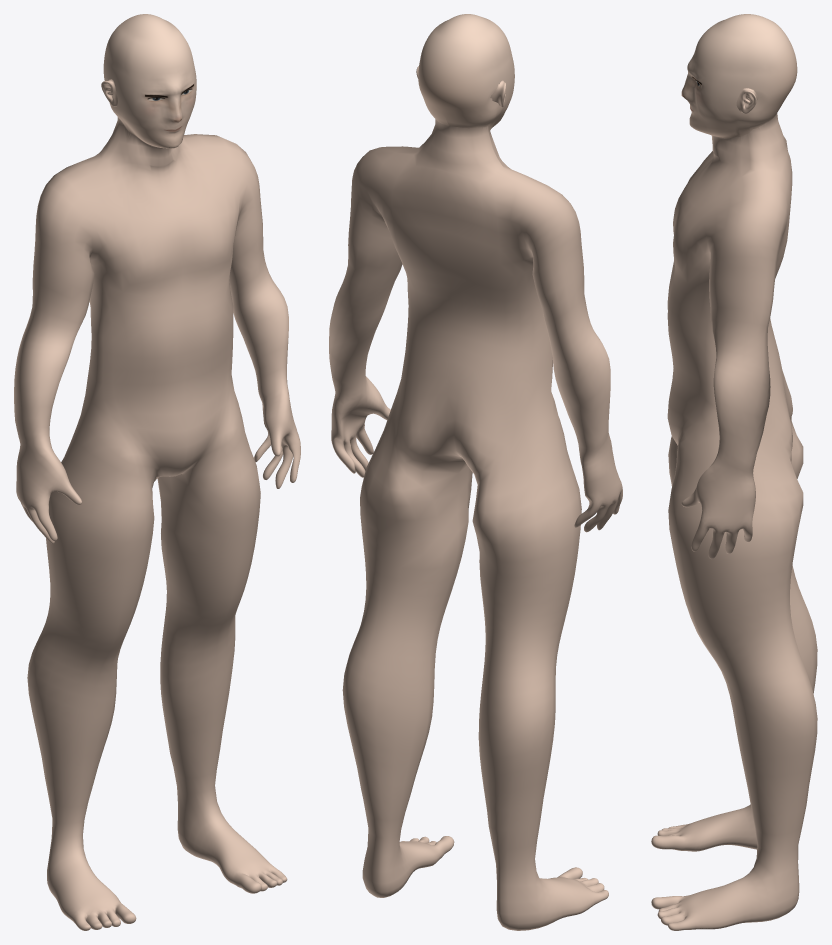
Rendered from previous_static_reference.glb.
3 views of the same model, side by side, from view 1: azimuth 30°, elevation 25°; view 2: azimuth 150°, elevation 25°; view 3: azimuth 270°, elevation 25° (orthographic). The views are drawn at different scales.
Parts seen in each view (by area): view 1: head_2, head_1; view 2: head_2, head_1; view 3: head_2, head_1, ear-makehuman-right.
Boxes of the visible parts, bbox=[...] form: head_2: bbox=[14, 117, 300, 930]; head_1: bbox=[103, 14, 196, 148]; head_2: bbox=[329, 119, 622, 930]; head_1: bbox=[418, 14, 514, 130]; head_2: bbox=[651, 113, 817, 930]; head_1: bbox=[681, 14, 797, 138]; ear-makehuman-right: bbox=[736, 88, 758, 113].
Bounding box in the file's own units: 0.5862 × 1.79 × 0.3104.
Materials: 4 (1 with a texture image).
